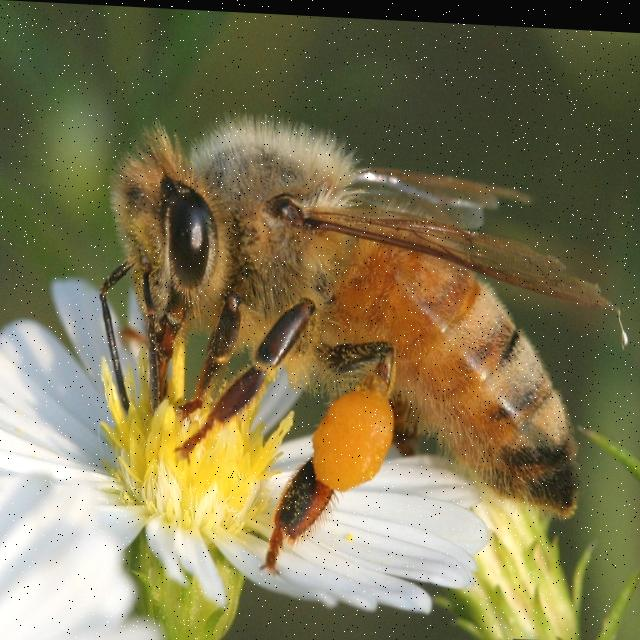Apis-mellifera-scutellata: (95, 74, 628, 584)
